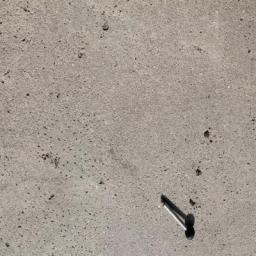FOD: (157, 194, 201, 242)
